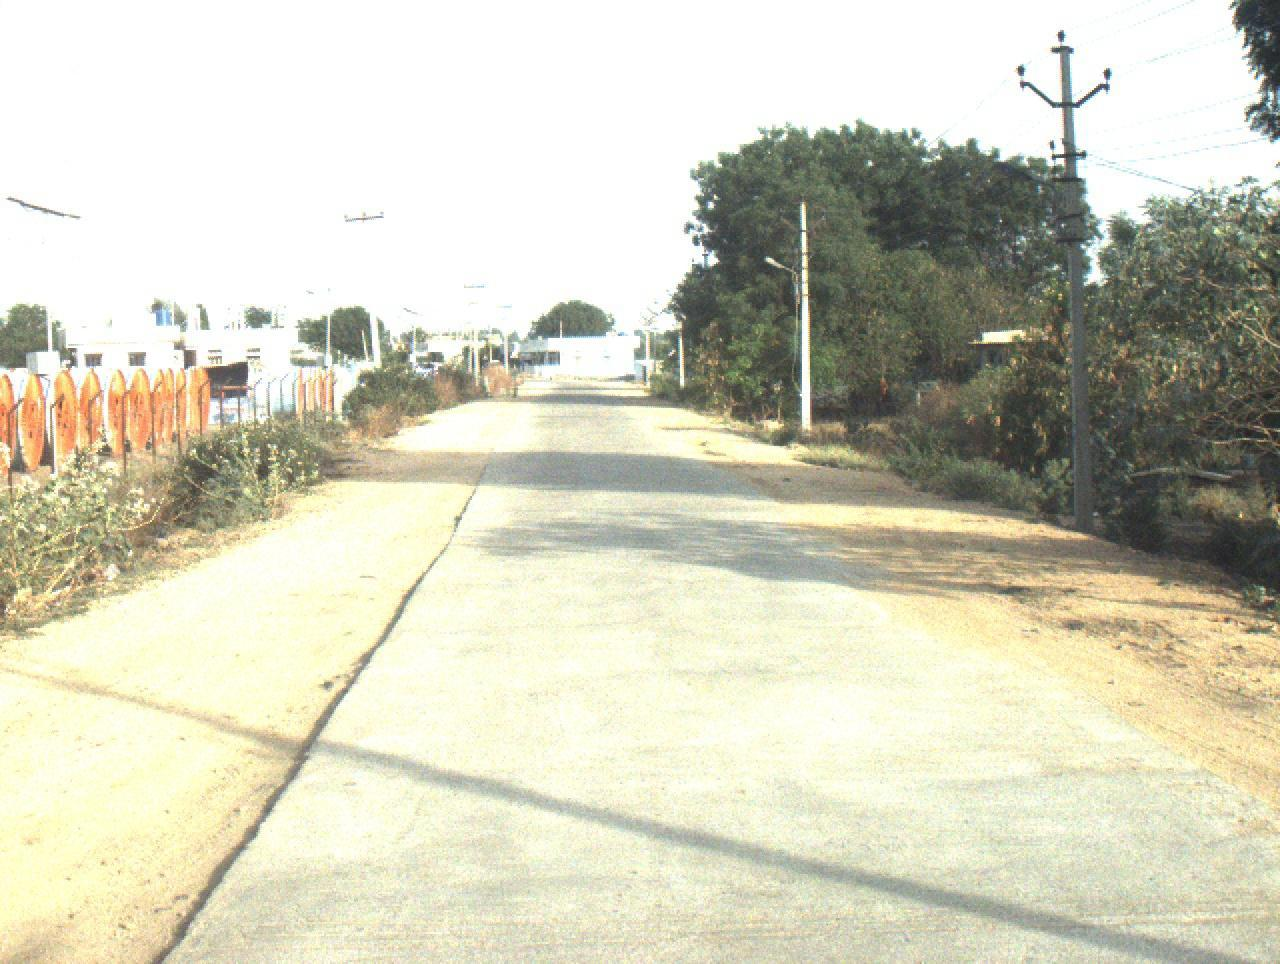off: (0, 6, 1280, 964)
